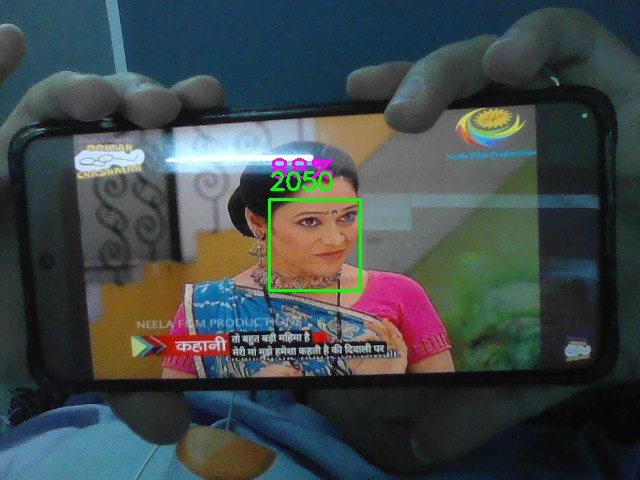fake: (269, 199, 361, 291)
